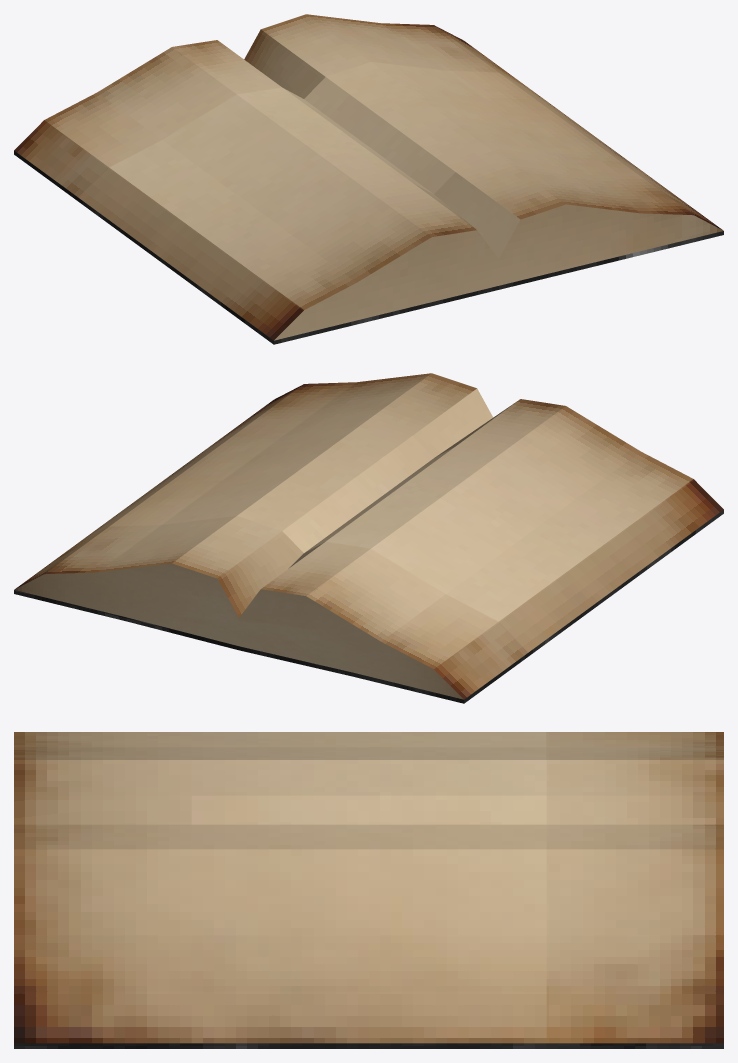
The model's file is book.glb.
The picture shows the model from 3 angles, top to bottom: view 1: azimuth 30°, elevation 25°; view 2: azimuth 150°, elevation 25°; view 3: azimuth 270°, elevation 25°; orthographic projection. The views are drawn at different scales.
Visible parts, largest first — view 1: Book; view 2: Book; view 3: Book.
Part boxes in pixels (x1=…): Book: x1=14, y1=14, x2=723, y2=344; Book: x1=14, y1=373, x2=723, y2=703; Book: x1=14, y1=732, x2=723, y2=1048.
Bounding box in the file's own units: 2 × 0.2997 × 2.
Materials: 3 (3 with a texture image).
